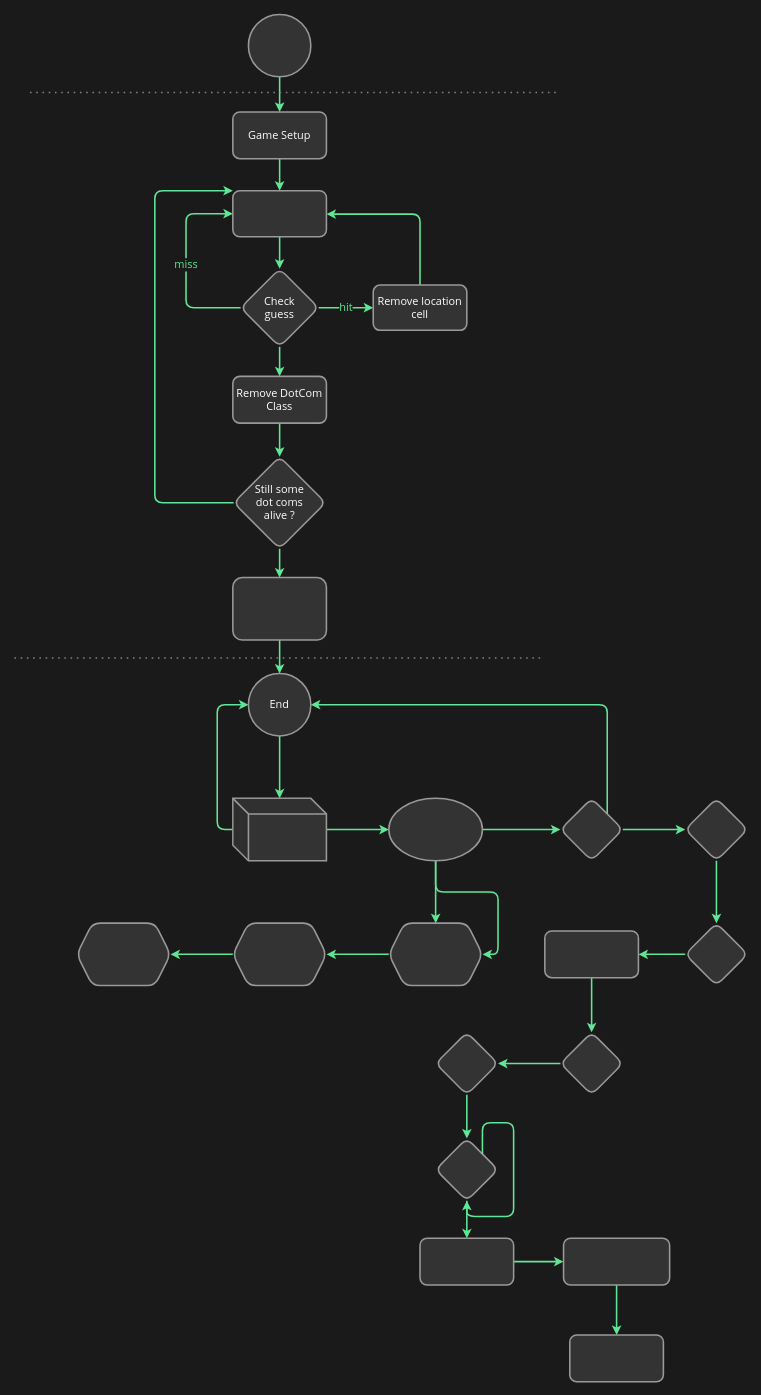
This 761x1395 diagram has some shape labels left out. Here are the shapes that lost their labels. From the top down, the centre of each, then its label:
At (x=279, y=45): "Start".
At (x=279, y=213): "Get user guess".
At (x=279, y=608): "Display user rating score".
